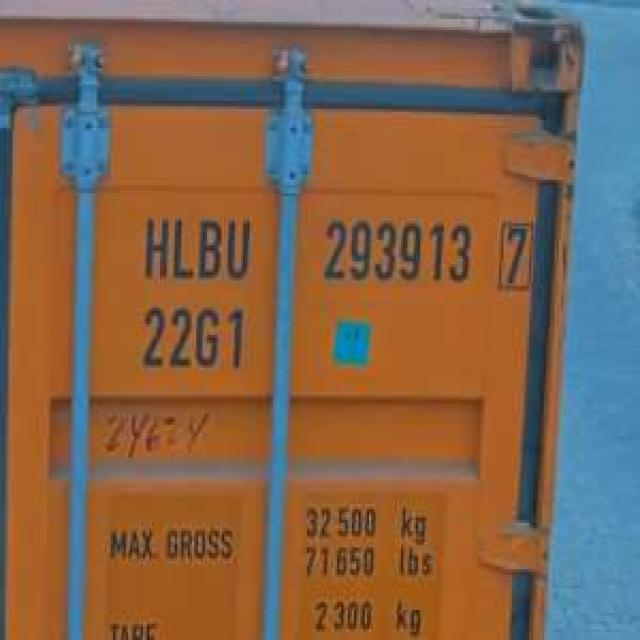dv: (491, 210, 536, 292)
owner: (135, 210, 255, 285)
serial: (318, 210, 473, 293)
size: (132, 300, 251, 377)
